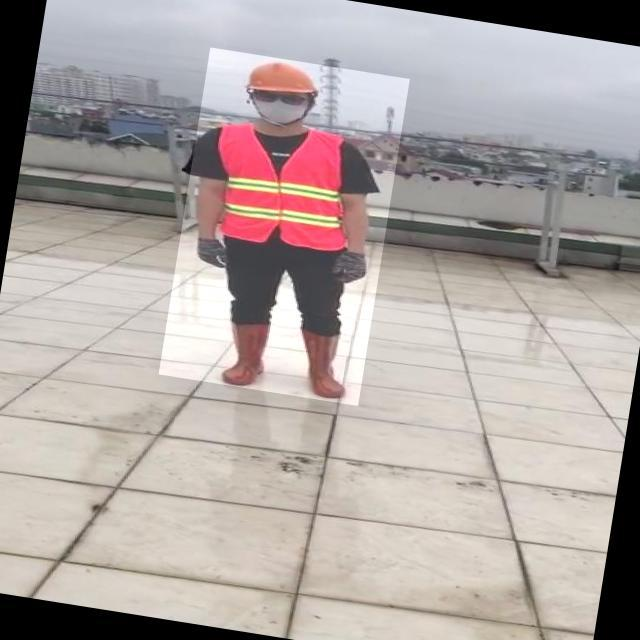Gloves: (192, 234, 233, 271), (331, 251, 370, 288)
Helmet: (245, 56, 323, 101)
Human: (159, 47, 410, 406)
Safety Boot: (292, 329, 357, 403), (219, 317, 277, 392)
Safety Vest: (206, 117, 359, 257)
